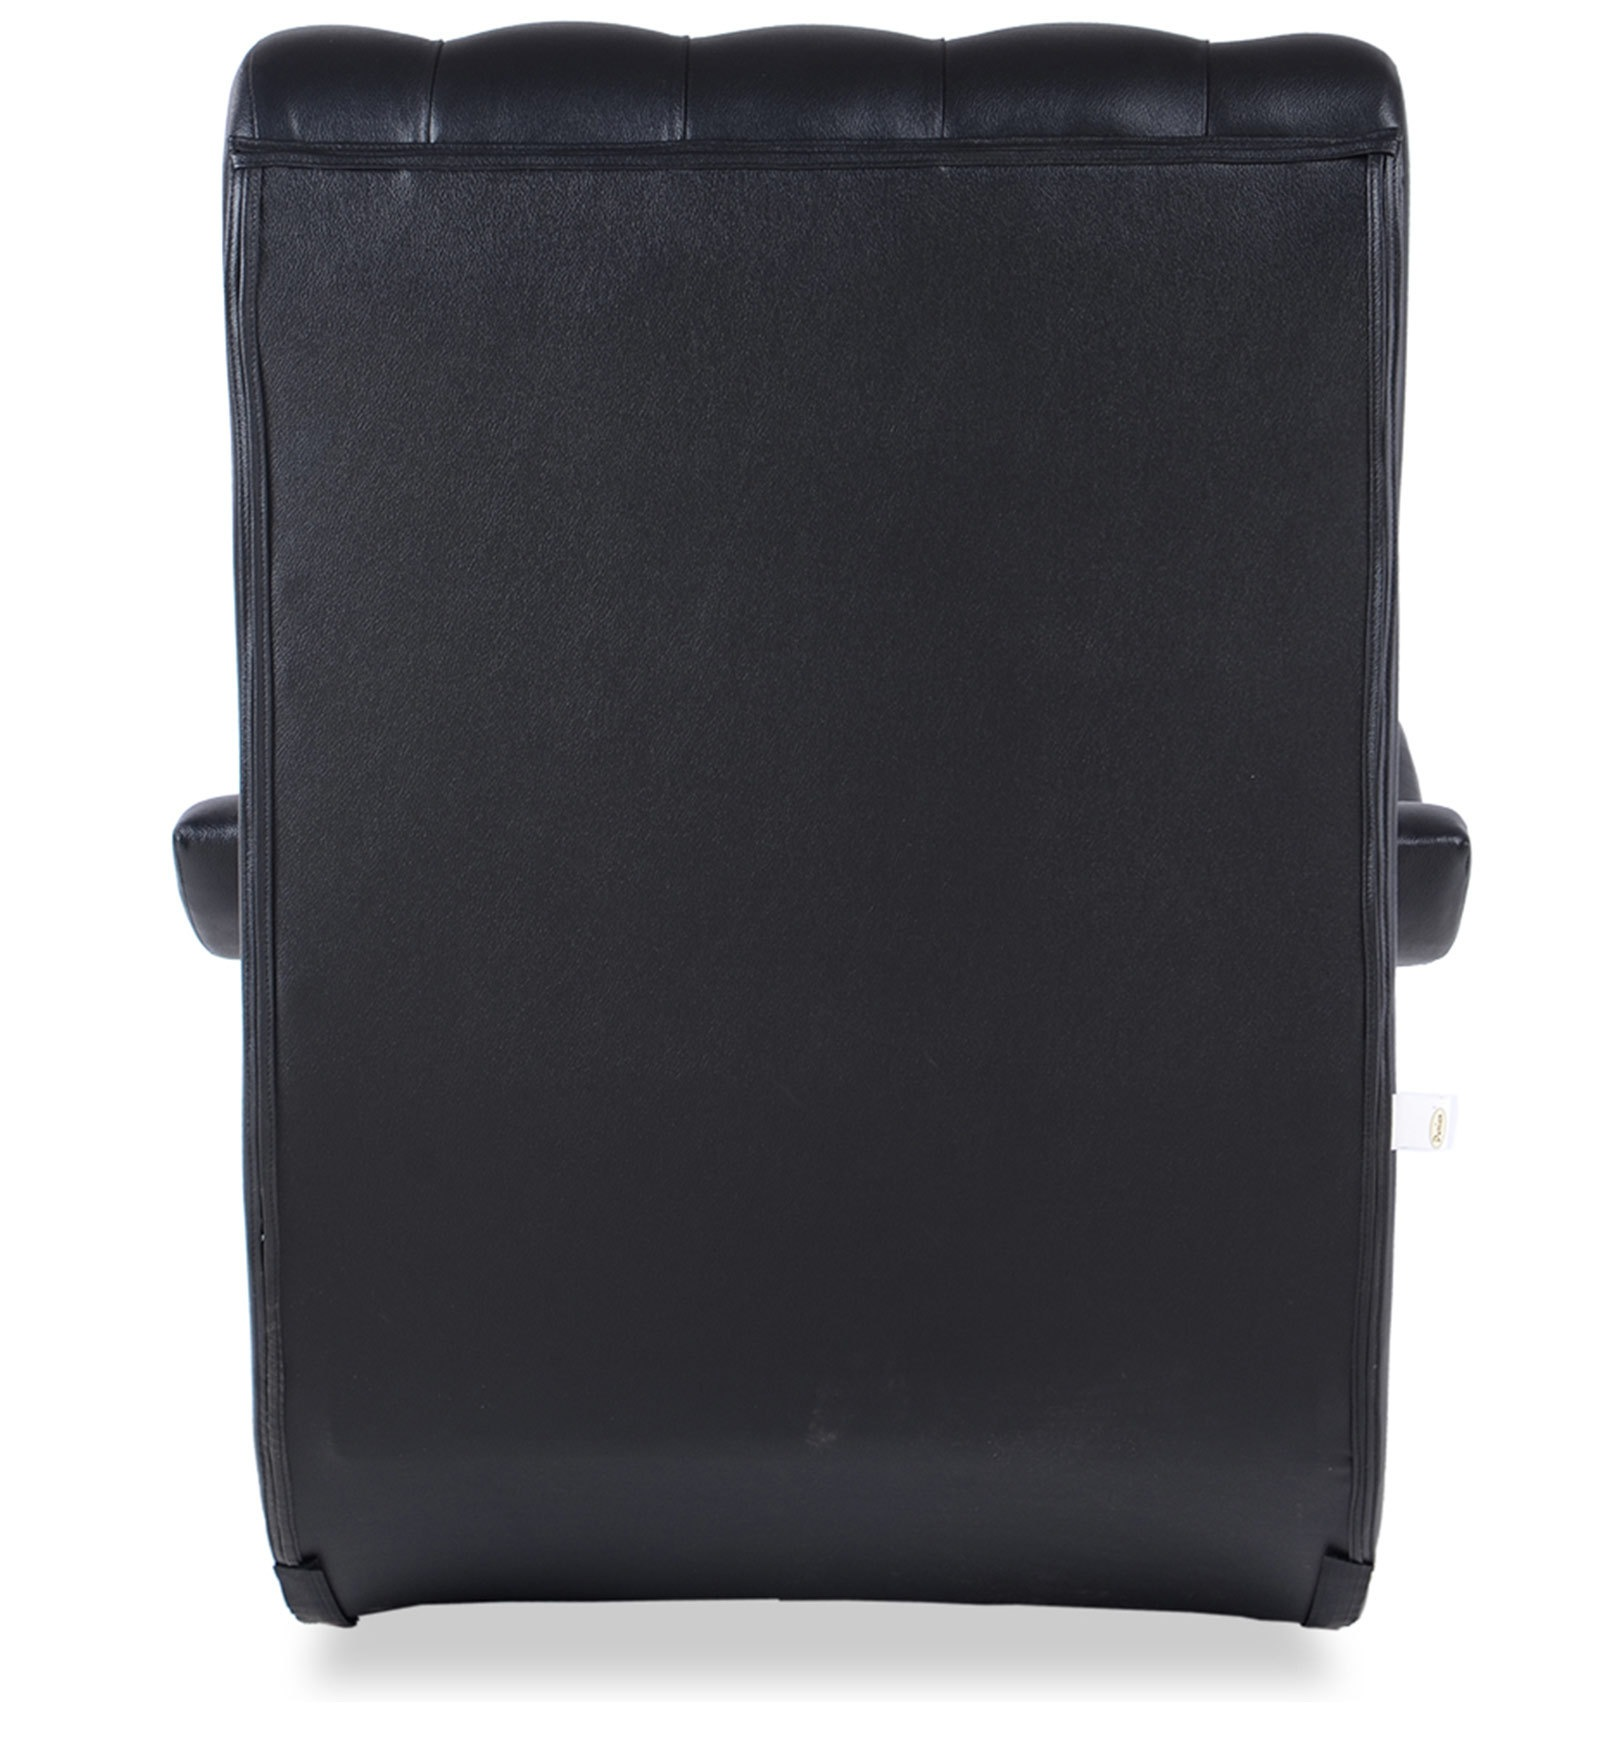Low Seat Rocking Chair with Arm Rest in Black Leatherette by Durian: (159, 12, 1467, 1622)
